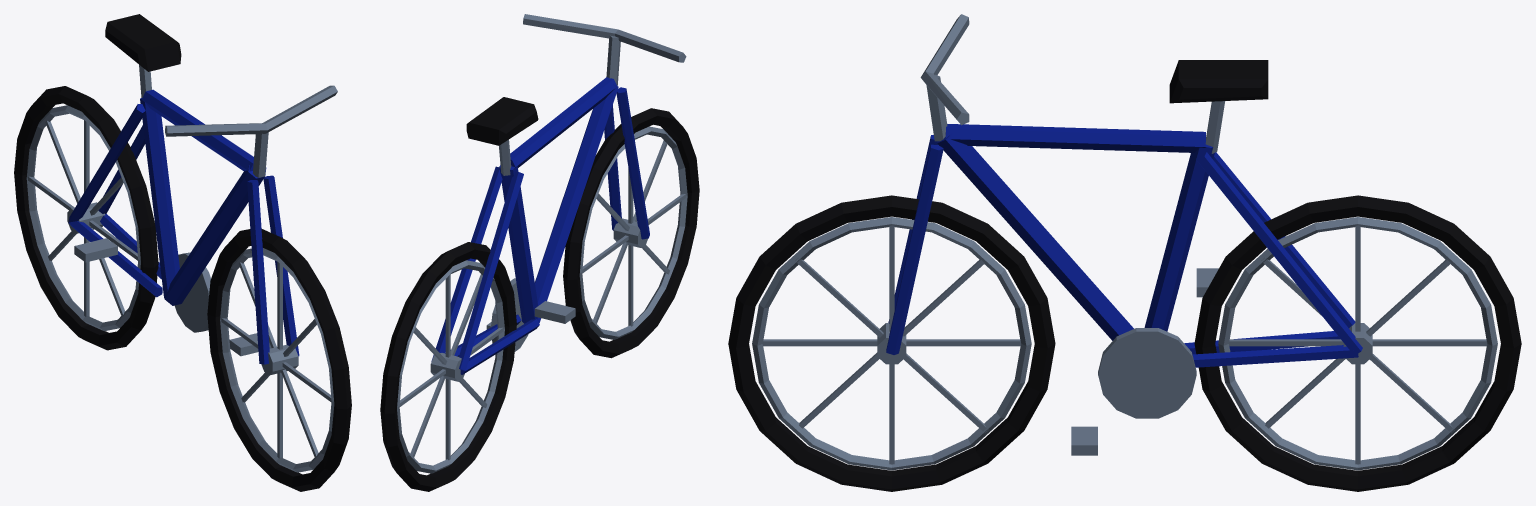
The model's file is pq_bicycle.obj.
3 views of the same model, side by side, from view 1: azimuth 30°, elevation 25°; view 2: azimuth 150°, elevation 25°; view 3: azimuth 270°, elevation 25° (orthographic). The views are drawn at different scales.
Visible parts, largest first — view 1: Bicycle tyres, Bicycle frame, Bicycle rims, Bicycle parts, Bicycle saddle; view 2: Bicycle tyres, Bicycle frame, Bicycle rims, Bicycle parts, Bicycle saddle; view 3: Bicycle tyres, Bicycle rims, Bicycle frame, Bicycle parts, Bicycle saddle.
Boxes of the visible parts, x1=… form: Bicycle tyres: x1=14, y1=86, x2=351, y2=491; Bicycle frame: x1=68, y1=89, x2=299, y2=364; Bicycle rims: x1=26, y1=105, x2=334, y2=472; Bicycle parts: x1=74, y1=65, x2=337, y2=356; Bicycle saddle: x1=105, y1=14, x2=181, y2=71; Bicycle tyres: x1=380, y1=108, x2=699, y2=491; Bicycle frame: x1=431, y1=77, x2=649, y2=374; Bicycle rims: x1=397, y1=126, x2=687, y2=473; Bicycle parts: x1=486, y1=14, x2=686, y2=351; Bicycle saddle: x1=466, y1=97, x2=538, y2=145; Bicycle tyres: x1=728, y1=195, x2=1521, y2=491; Bicycle rims: x1=752, y1=217, x2=1497, y2=470; Bicycle frame: x1=886, y1=124, x2=1362, y2=367; Bicycle parts: x1=920, y1=14, x2=1225, y2=455; Bicycle saddle: x1=1169, y1=60, x2=1268, y2=103.
Size of the model in its own units: 0.5294 by 1.06 by 1.77.
